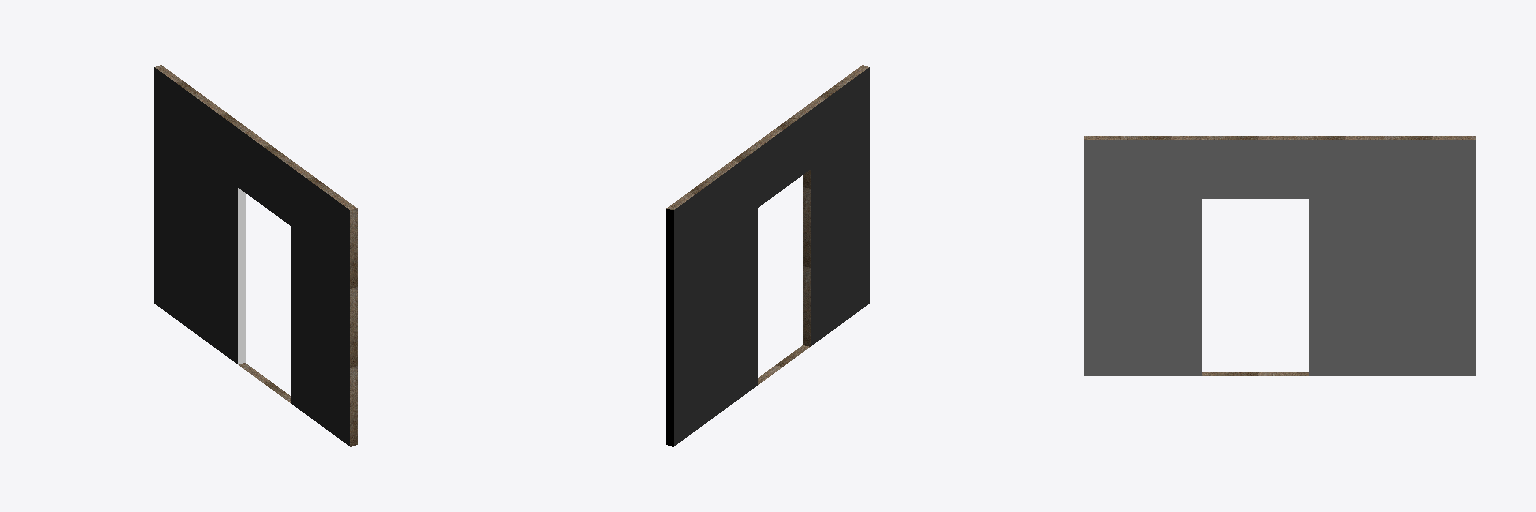
The picture shows the model from 3 angles: view 1: azimuth 30°, elevation 25°; view 2: azimuth 150°, elevation 25°; view 3: azimuth 270°, elevation 25°; orthographic projection.
Visible parts, largest first — view 1: DoorWall; view 2: DoorWall; view 3: DoorWall.
Boxes of the visible parts, x1,y1,x2,y2 form: DoorWall: [154, 65, 357, 446]; DoorWall: [666, 65, 869, 446]; DoorWall: [1084, 136, 1475, 375].
Bounding box in the file's own units: 0.1 × 3 × 4.5.
Materials: 5 (1 with a texture image).